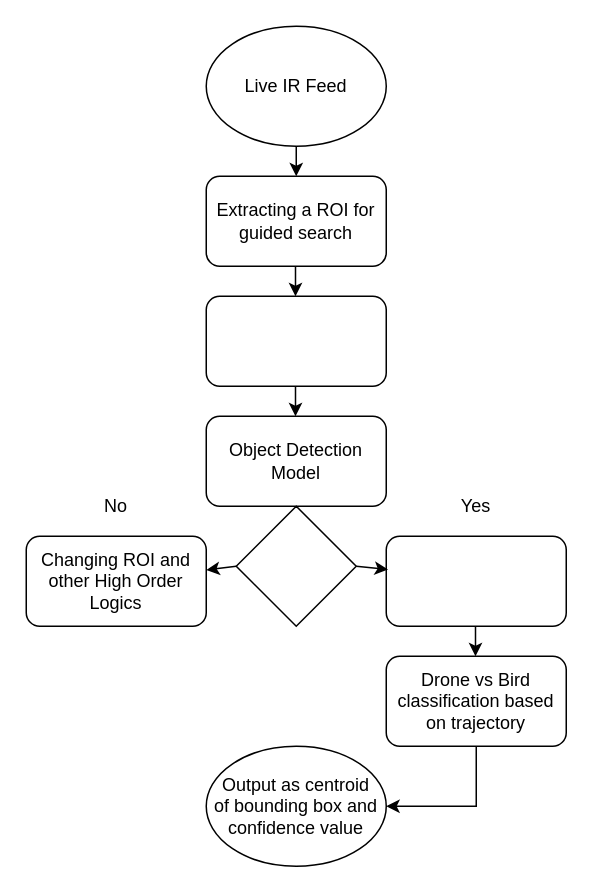
This 593x893 diagram has some shape labels left out. Each missing label, with the centre of its shape:
"If Drone Present." goes at (295,565).
"Pass the Bounding Box to Object Tracker" goes at (475,580).
"Pre-processing ROI for feature highlighting" goes at (295,340).
